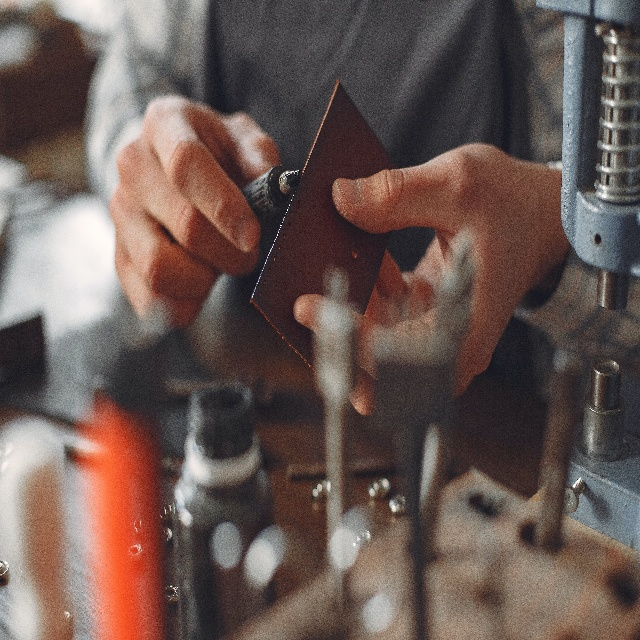Sin_guantes: (292, 140, 539, 416), (105, 87, 284, 336)
